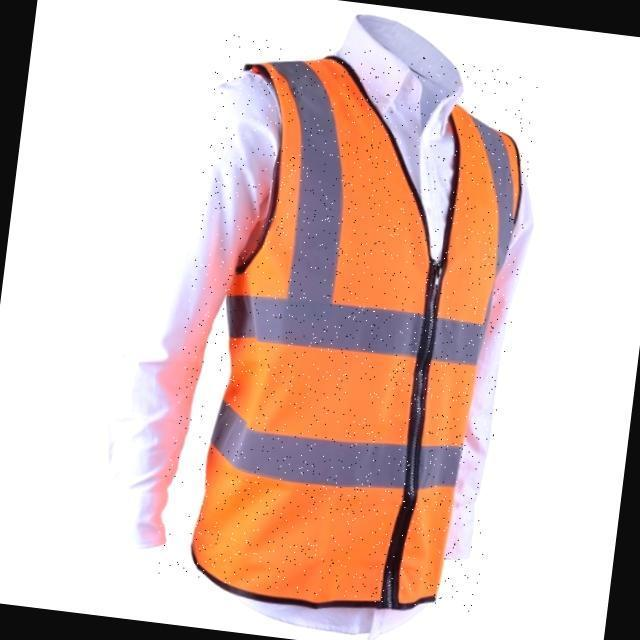vest: (153, 32, 542, 614)
